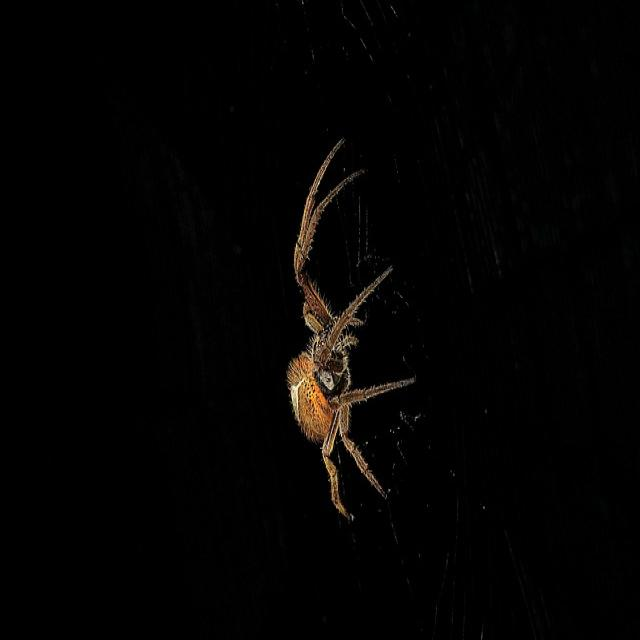spyder: (287, 140, 415, 522)
